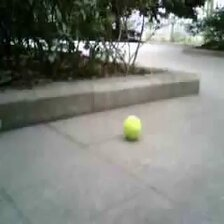tennis: (123, 115, 141, 138)
